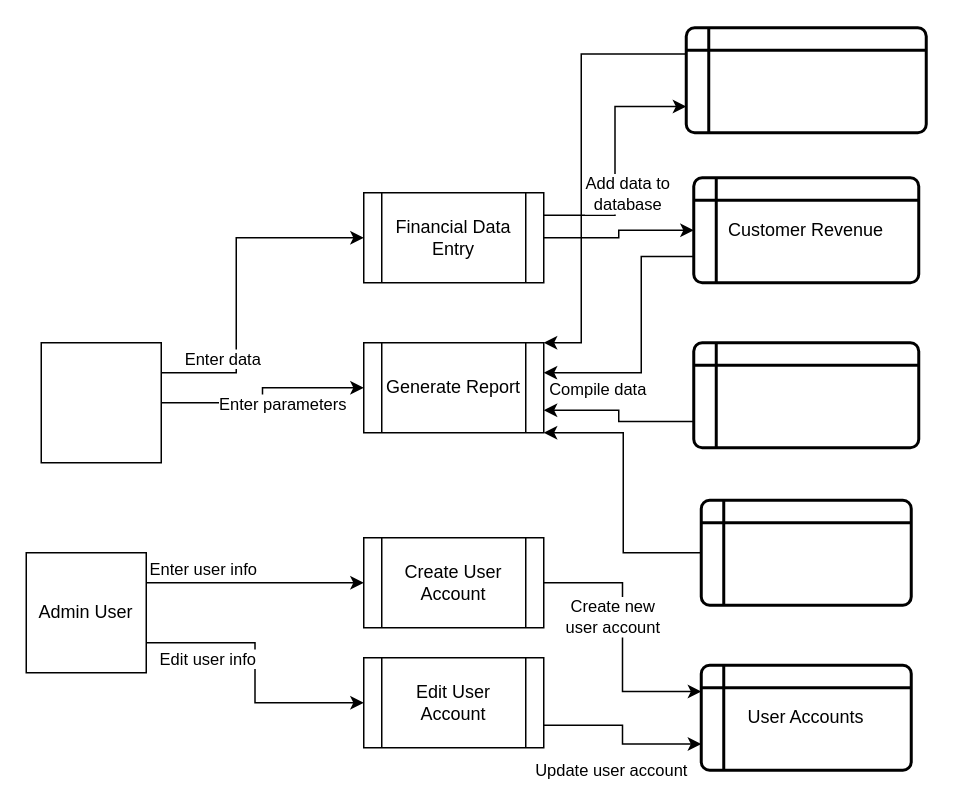
Image size: 954x806. Some labels were removed from this diagram. The shapes that lost their labels are listed below. From the top down, each one's centre as x and y in pixels, then its label:
At [805,80]: "Company Expenses".
At [100,402]: "Regular User".
At [806,394]: "Customer Accounts".
At [805,552]: "Employee Payroll".
